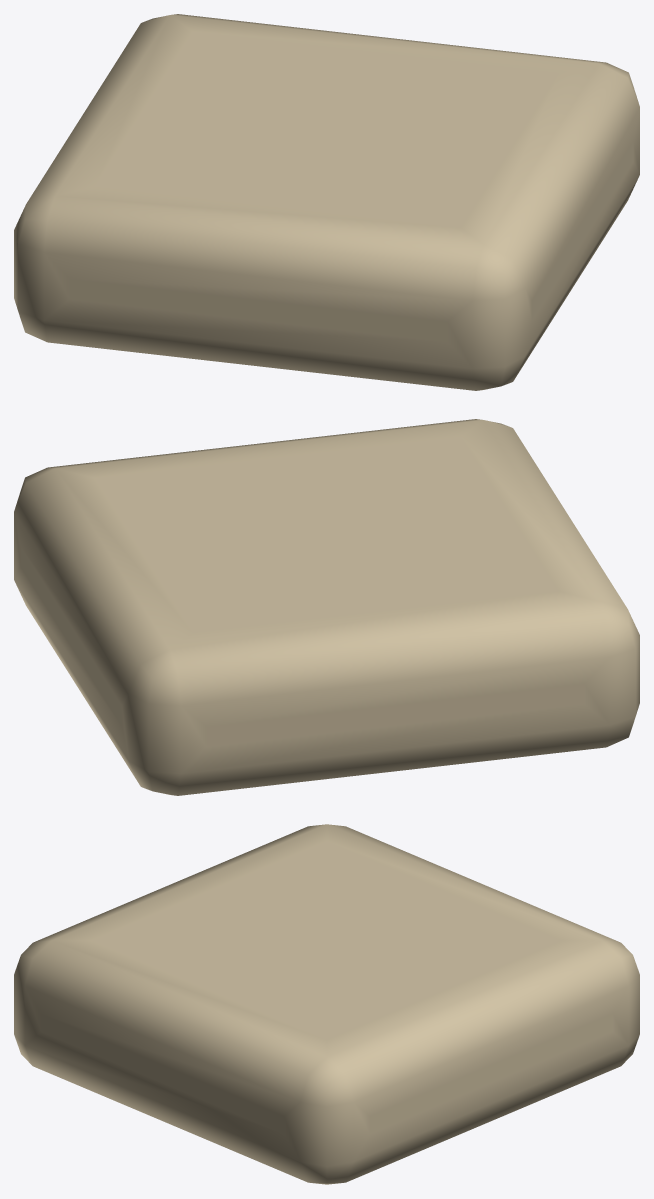
Rendered from empty_mark.glb.
3 renders of one model, top to bottom at view 1: azimuth 30°, elevation 25°; view 2: azimuth 150°, elevation 25°; view 3: azimuth 270°, elevation 25°, orthographic. The views are drawn at different scales.
Visible parts, largest first — view 1: Empty_Mark; view 2: Empty_Mark; view 3: Empty_Mark.
Boxes of the visible parts, box(x1,y1,x2,y2) form: Empty_Mark: box(14, 14, 639, 390); Empty_Mark: box(14, 419, 639, 795); Empty_Mark: box(14, 824, 639, 1184).
Size of the model in its own units: 0.1334 by 0.03 by 0.1334.
